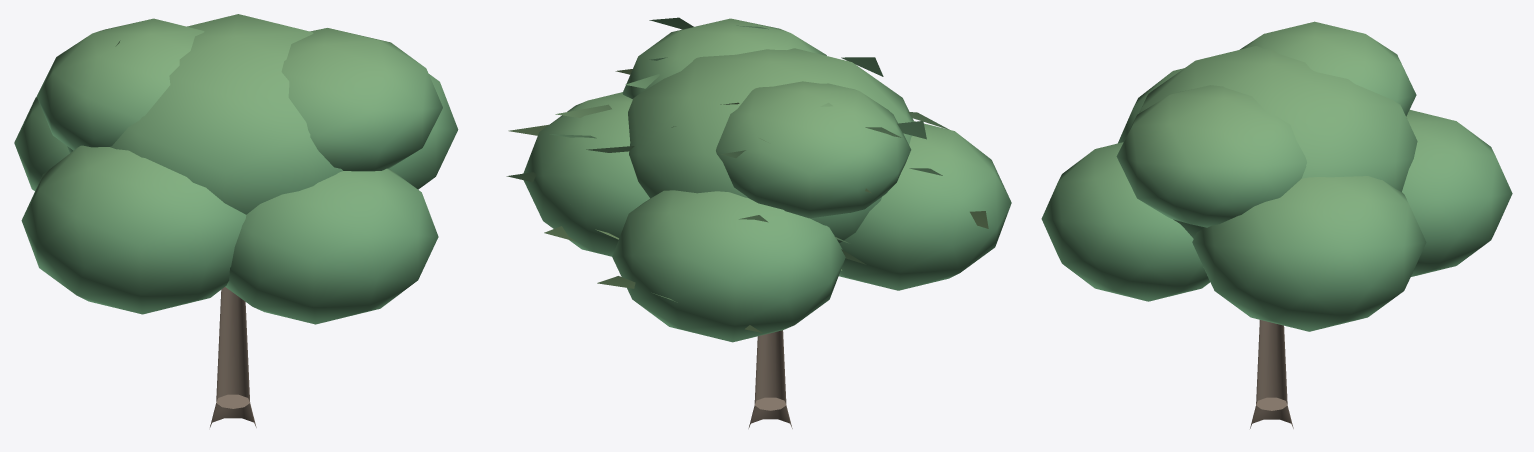
Rendered from tree_neem.glb.
The picture shows the model from 3 angles, left to right: view 1: azimuth 30°, elevation 25°; view 2: azimuth 150°, elevation 25°; view 3: azimuth 270°, elevation 25°; orthographic projection. The views are drawn at different scales.
Visible parts, largest first — view 1: tree_neem; view 2: tree_neem; view 3: tree_neem.
Boxes of the visible parts, x1=… form: tree_neem: x1=14, y1=14, x2=458, y2=427; tree_neem: x1=506, y1=17, x2=1011, y2=428; tree_neem: x1=1041, y1=21, x2=1512, y2=428.
Bounding box in the file's own units: 9.25 × 7.5 × 8.94.
